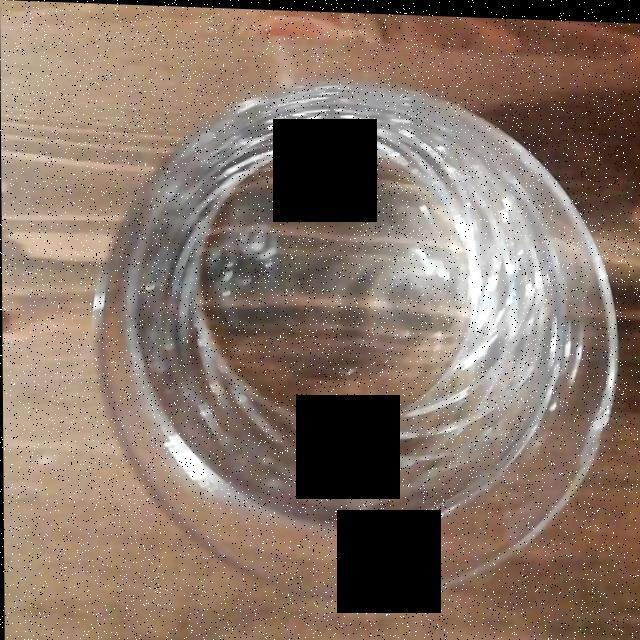water: (142, 117, 556, 523)
